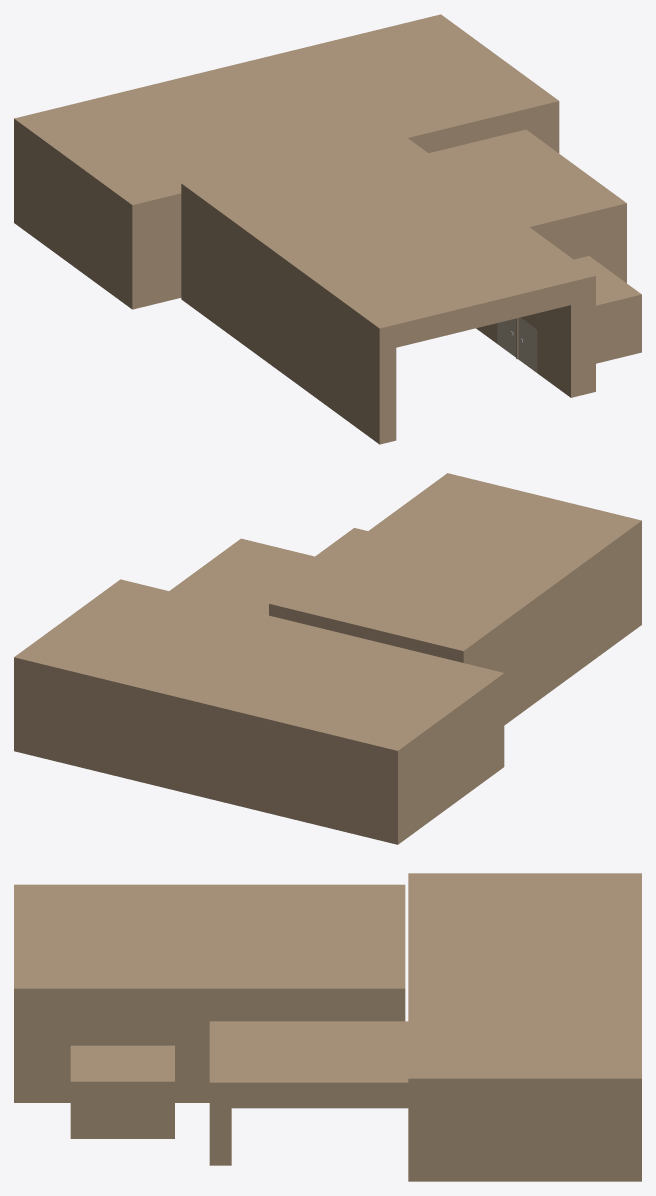
The model's file is housetest.glb.
3 views of the same model, one above another, from view 1: azimuth 30°, elevation 25°; view 2: azimuth 150°, elevation 25°; view 3: azimuth 270°, elevation 25° (orthographic). The views are drawn at different scales.
Visible parts, largest first — view 1: Mesh_Mesh_head_geo.001_lambert2SG.001; view 2: Mesh_Mesh_head_geo.001_lambert2SG.001; view 3: Mesh_Mesh_head_geo.001_lambert2SG.001.
Part boxes in pixels (x1,y1,x2,y2): Mesh_Mesh_head_geo.001_lambert2SG.001: (14,14,641,444); Mesh_Mesh_head_geo.001_lambert2SG.001: (14,473,641,844); Mesh_Mesh_head_geo.001_lambert2SG.001: (14,873,641,1181).
Bounding box in the file's own units: 0.154 × 0.04 × 0.199.
